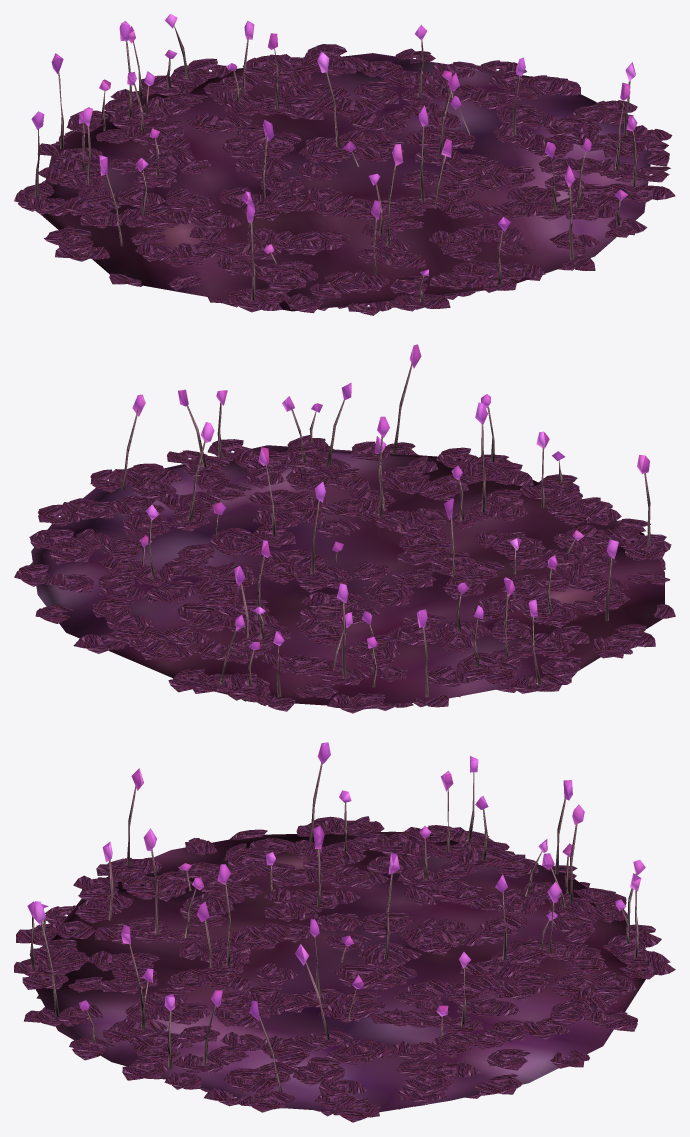
Rendered from moss_01.glb.
3 views of the same model, one above another, from view 1: azimuth 30°, elevation 25°; view 2: azimuth 150°, elevation 25°; view 3: azimuth 270°, elevation 25° (orthographic). The views are drawn at different scales.
Parts seen in each view (by area): view 1: export; view 2: export; view 3: export.
Boxes of the visible parts, left/top/right/bottom form: export: left=14, top=14, right=675, bottom=315; export: left=14, top=344, right=675, bottom=713; export: left=14, top=742, right=675, bottom=1122.
Bounding box in the file's own units: 2.15 × 0.4521 × 1.99.
Materials: 3 (3 with a texture image).
